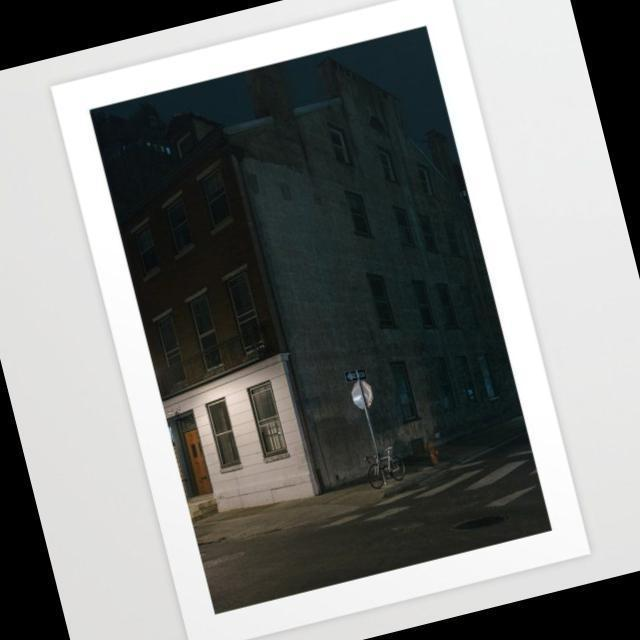off: (342, 366, 405, 421)
